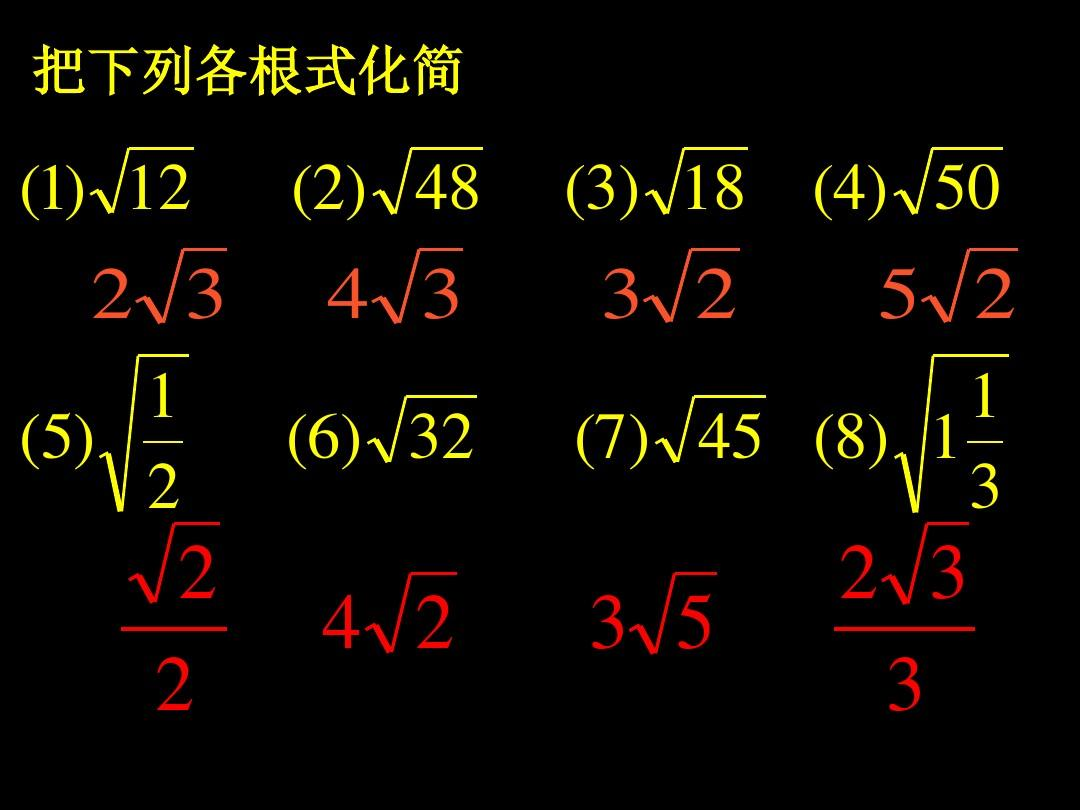division: (831, 621, 979, 641), (114, 623, 228, 641), (139, 431, 183, 455), (960, 432, 1007, 452)
sqrt: (894, 352, 1020, 520), (112, 341, 196, 522), (361, 564, 475, 660), (878, 514, 979, 620), (622, 560, 727, 660), (94, 134, 213, 222), (121, 515, 227, 608), (654, 239, 754, 336), (643, 137, 757, 220), (905, 133, 1014, 219), (379, 141, 500, 218), (657, 388, 771, 466), (142, 242, 236, 328), (925, 236, 1018, 320), (385, 245, 471, 335), (386, 388, 478, 472)
